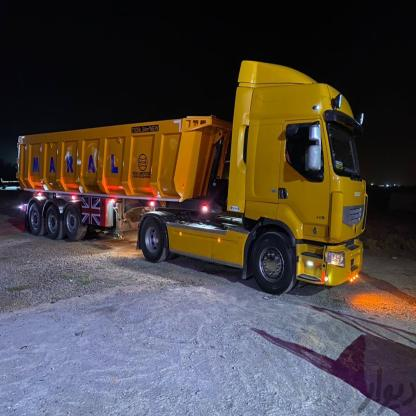Truck: (18, 71, 363, 304)
